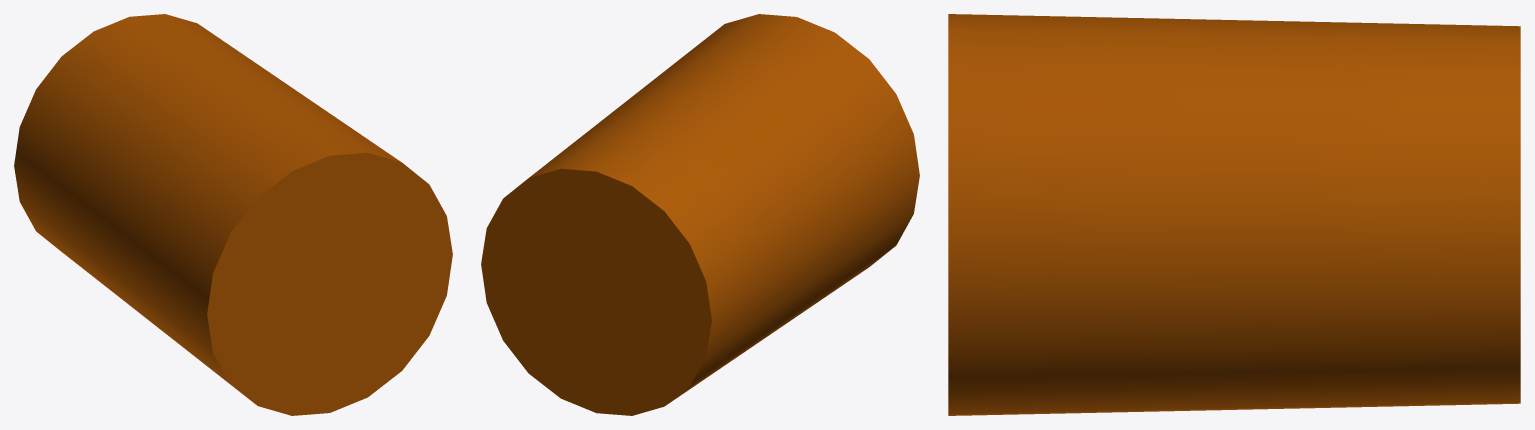
Rendered from carrot2_slices_2.fbx.
3 renders of one model, left to right at view 1: azimuth 30°, elevation 25°; view 2: azimuth 150°, elevation 25°; view 3: azimuth 270°, elevation 25°, orthographic. The views are drawn at different scales.
Visible parts, largest first — view 1: carrot_2_slices.002; view 2: carrot_2_slices.002; view 3: carrot_2_slices.002.
Part boxes in pixels (x1,y1,x2,y2): carrot_2_slices.002: (14, 14, 452, 415); carrot_2_slices.002: (481, 14, 919, 415); carrot_2_slices.002: (948, 14, 1520, 415).
Bounding box in the file's own units: 87.99 × 87.99 × 124.
